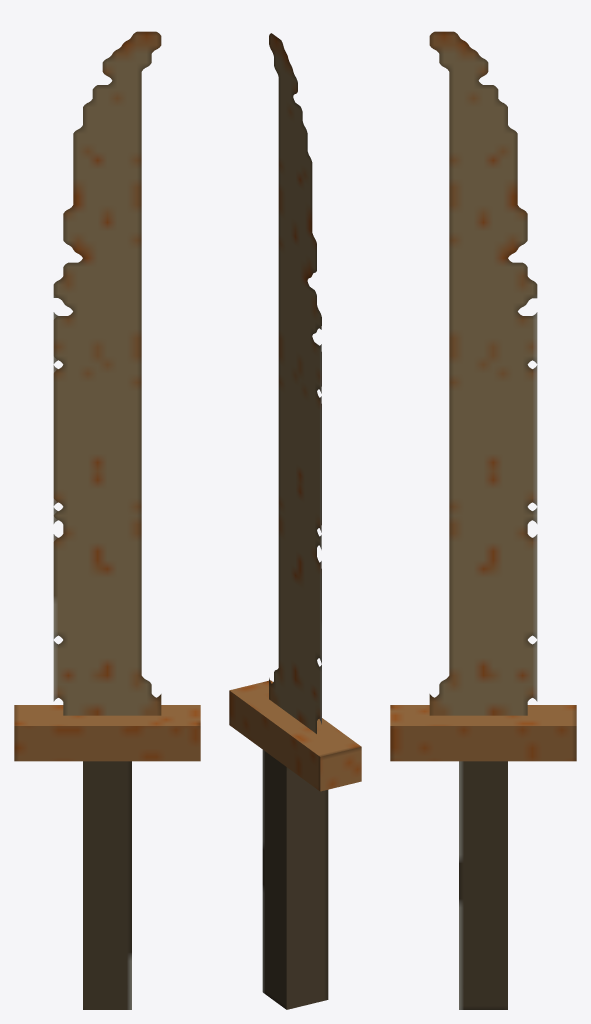
The model's file is rustsword.obj.
3 renders of one model, left to right at view 1: azimuth 90°, elevation 25°; view 2: azimuth 210°, elevation 25°; view 3: azimuth 270°, elevation 25°, orthographic. The views are drawn at different scales.
Visible parts, largest first — view 1: cuboid; view 2: cuboid; view 3: cuboid.
Part boxes in pixels (x1,y1,x2,y2): cuboid: (14,31,200,1009); cuboid: (229,33,361,1009); cuboid: (390,31,576,1009).
Size of the model in its own units: 0.0625 by 1.39 by 0.2375.
